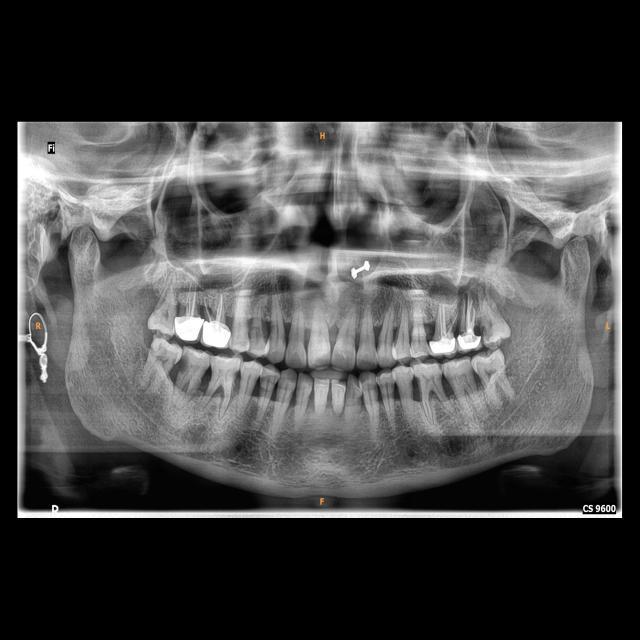dentin-curugu: (178, 354, 190, 376), (482, 316, 493, 340)
kanal-tedavisi: (428, 302, 458, 337), (182, 274, 201, 318), (202, 290, 227, 322), (459, 296, 481, 332)
kaplama: (175, 315, 203, 343), (202, 321, 229, 348), (430, 336, 458, 355), (458, 330, 481, 348)
